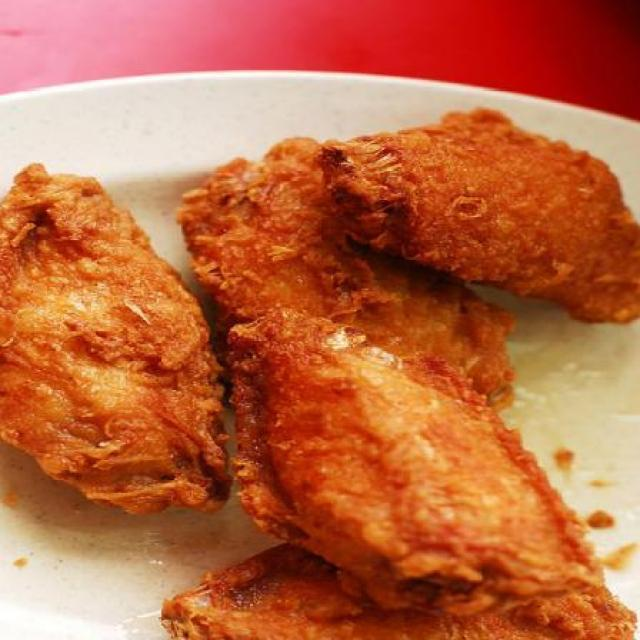Chicken: (17, 115, 617, 614)
